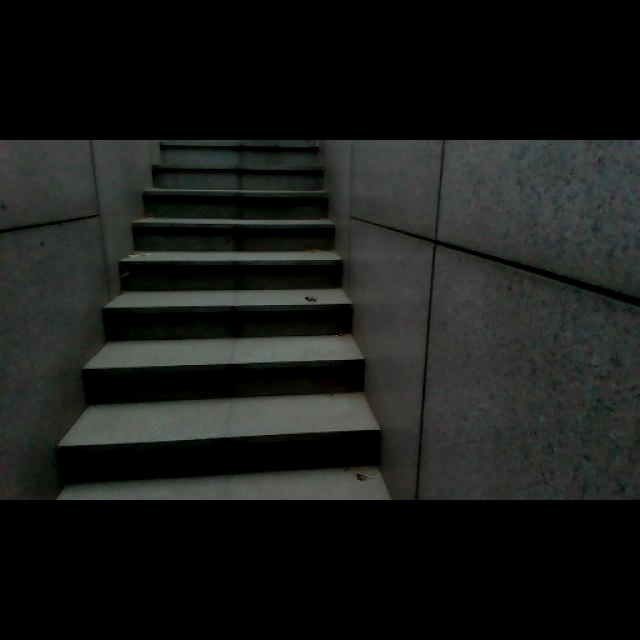stair: (101, 143, 381, 494)
